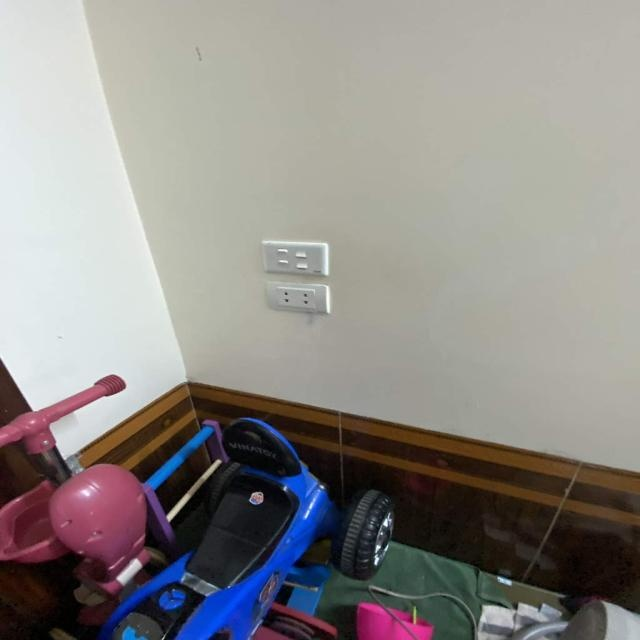outlet: (265, 281, 330, 314)
